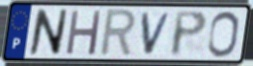H: (64, 9, 104, 57)
N: (27, 7, 70, 57)
O: (206, 10, 241, 59)
P: (170, 9, 209, 59)
R: (97, 8, 138, 59)
V: (140, 11, 174, 56)
